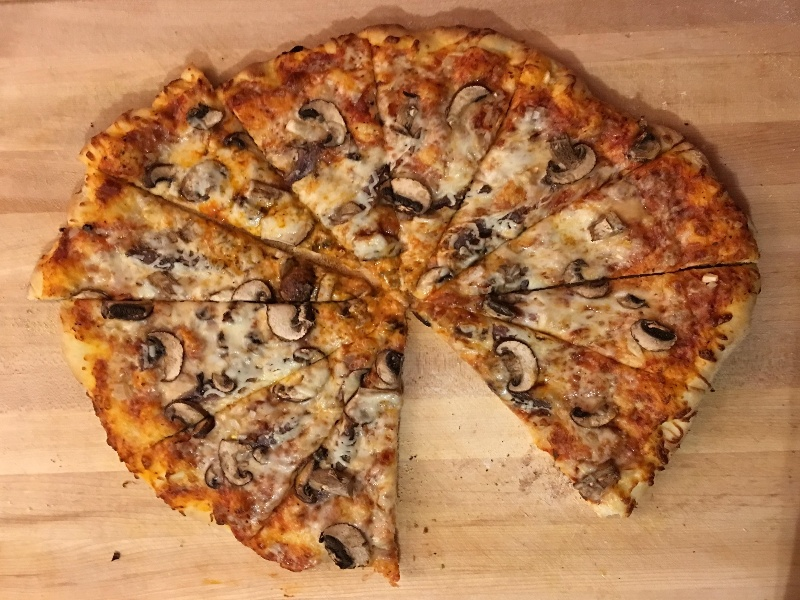champignon: (488, 332, 550, 398), (283, 95, 352, 154), (314, 516, 380, 572), (132, 326, 194, 385), (537, 135, 601, 190), (264, 295, 323, 349), (374, 172, 434, 221), (560, 251, 616, 303), (164, 396, 225, 442), (624, 318, 684, 356)
